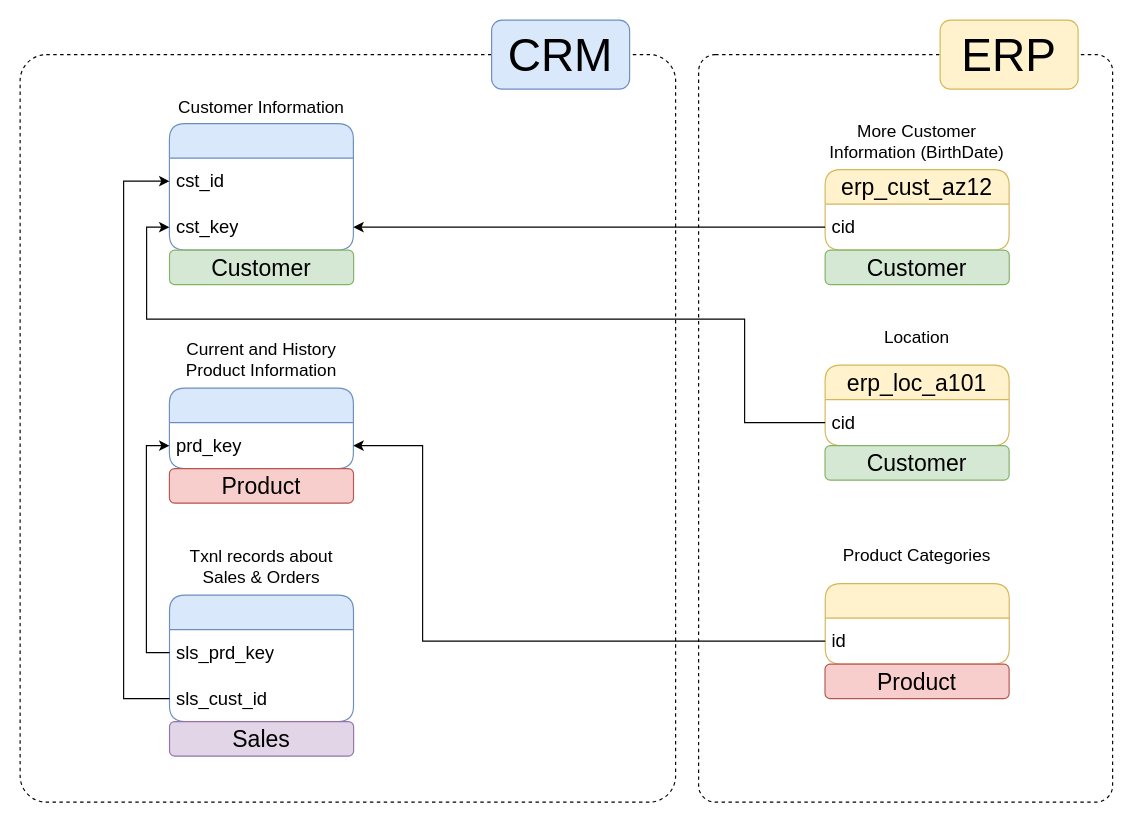
Image size: 1133x822. Some labels were removed from this diagram. Each missing label, with the box of its shape:
crm_cust_info: (168, 122, 353, 250)
crm_prd_info: (168, 387, 353, 469)
crm_sales_details: (168, 594, 354, 722)
erp_px_cat_g1v2: (824, 582, 1009, 664)
